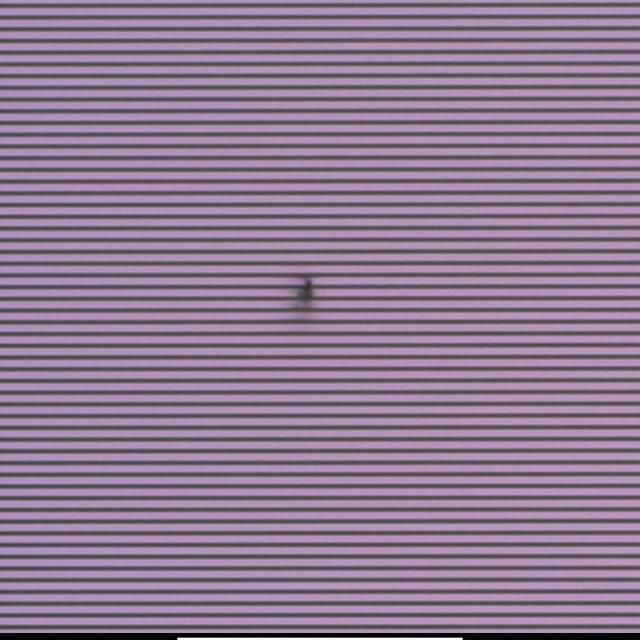nonvisual: (289, 274, 319, 311)
